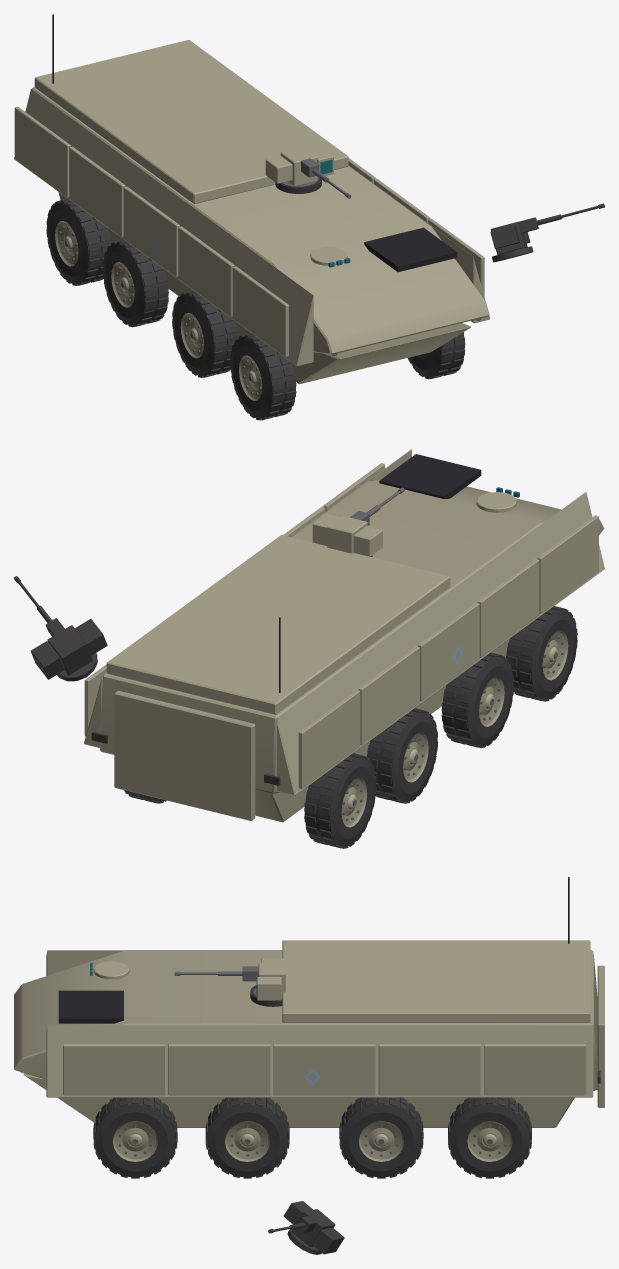
The model's file is apc__boxer.glb.
3 renders of one model, top to bottom at view 1: azimuth 30°, elevation 25°; view 2: azimuth 150°, elevation 25°; view 3: azimuth 270°, elevation 25°, orthographic. The views are drawn at different scales.
Visible parts, largest first — view 1: Hull_Mesh, Wheel_L3_Mesh, Wheel_L1_Mesh, Wheel_L2_Mesh, Wheel_L0_Mesh, Wreck, Turret_Mesh, Wheel_R3_Mesh; view 2: Hull_Mesh, Wheel_L0_Mesh, Wheel_L2_Mesh, Wheel_L3_Mesh, Wheel_L1_Mesh, Wreck, Turret_Mesh; view 3: Hull_Mesh, Wheel_R3_Mesh, Wheel_R1_Mesh, Wheel_R2_Mesh, Wheel_R0_Mesh, Wreck, Turret_Mesh, Gun_Mesh.
Part boxes in pixels (bbox=[...]): Hull_Mesh: bbox=[14, 14, 490, 384]; Wheel_L3_Mesh: bbox=[230, 333, 296, 420]; Wheel_L1_Mesh: bbox=[102, 239, 168, 326]; Wheel_L2_Mesh: bbox=[172, 290, 237, 377]; Wheel_L0_Mesh: bbox=[46, 198, 111, 285]; Wreck: bbox=[60, 178, 604, 419]; Turret_Mesh: bbox=[265, 147, 333, 186]; Wheel_R3_Mesh: bbox=[407, 332, 465, 378]; Hull_Mesh: bbox=[84, 449, 604, 822]; Wheel_L0_Mesh: bbox=[304, 753, 376, 848]; Wheel_L2_Mesh: bbox=[441, 652, 513, 748]; Wheel_L3_Mesh: bbox=[505, 606, 577, 701]; Wheel_L1_Mesh: bbox=[367, 708, 437, 803]; Wreck: bbox=[14, 555, 551, 848]; Turret_Mesh: bbox=[312, 514, 382, 556]; Hull_Mesh: bbox=[14, 877, 604, 1127]; Wheel_R3_Mesh: bbox=[93, 1097, 177, 1178]; Wheel_R1_Mesh: bbox=[339, 1097, 423, 1178]; Wheel_R2_Mesh: bbox=[205, 1097, 289, 1178]; Wheel_R0_Mesh: bbox=[448, 1097, 531, 1178]; Wreck: bbox=[146, 985, 504, 1254]; Turret_Mesh: bbox=[253, 958, 285, 1000]; Gun_Mesh: bbox=[174, 966, 259, 981].
Size of what is drawn, in the model's own units: 6.58 by 3.41 by 8.17.
